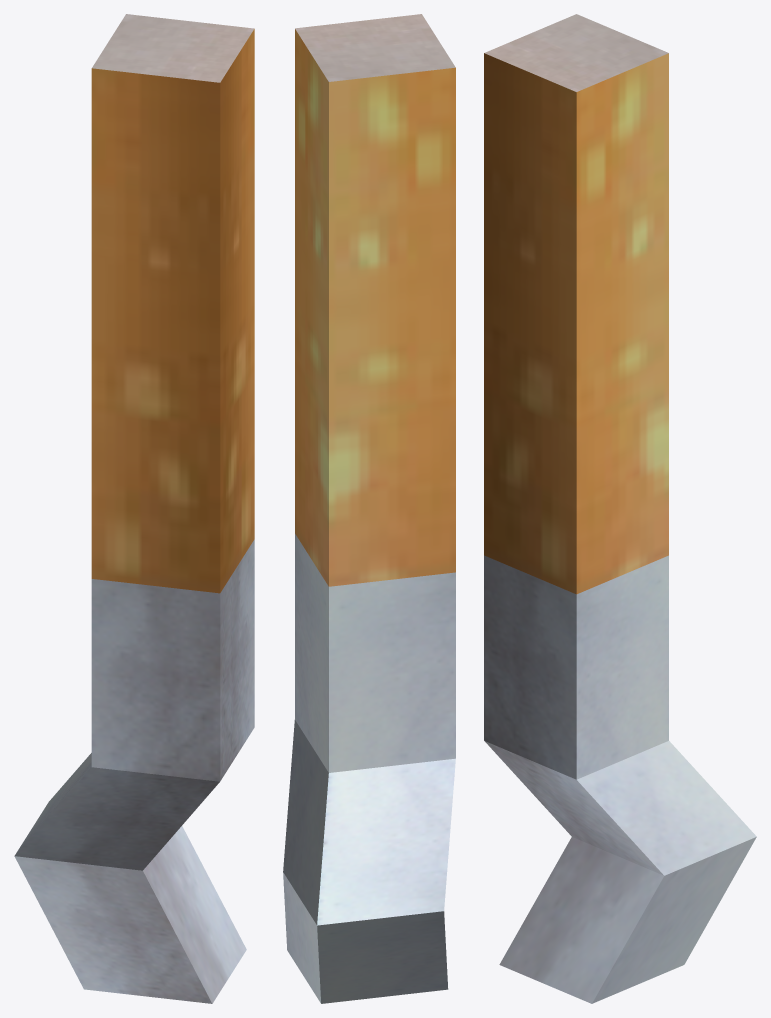
The model's file is cigarette_snubbed.fbx.
The picture shows the model from 3 angles, left to right: view 1: azimuth 30°, elevation 25°; view 2: azimuth 150°, elevation 25°; view 3: azimuth 270°, elevation 25°; orthographic projection.
Visible parts, largest first — view 1: CigaretteSmuged; view 2: CigaretteSmuged; view 3: CigaretteSmuged.
Boxes of the visible parts, x1,y1,x2,y2 form: CigaretteSmuged: (14, 14, 254, 1003); CigaretteSmuged: (283, 14, 455, 1003); CigaretteSmuged: (484, 14, 756, 1003).
Size of the model in its own units: 12.57 by 56.92 by 15.44.
1 material, 1 textured.
